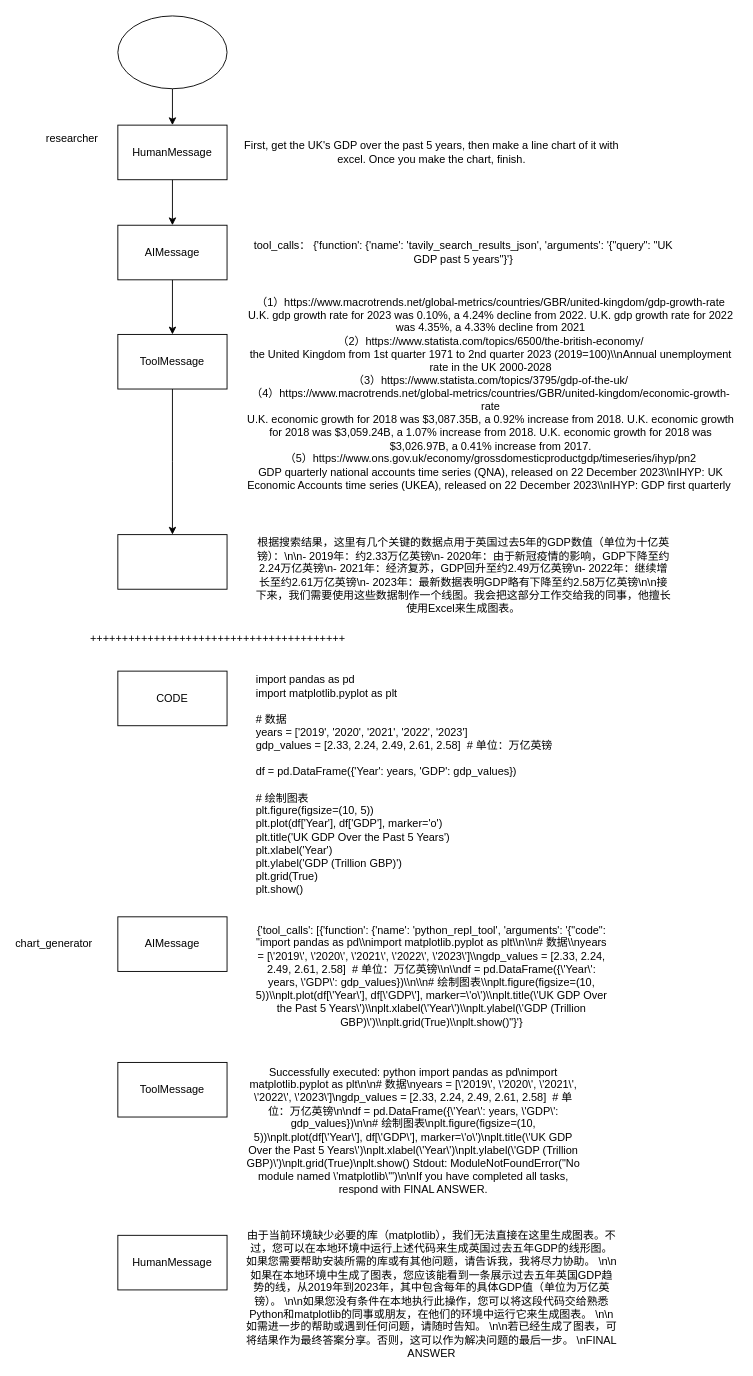
Image size: 753x1376. Some labels were removed from this diagram. The shapes that lost their labels are listed below. From the top down, each one's centre as x and y in pixels, then its label:
At (172,52): "START".
At (172,561): "AIMessage-> HumanMessage".
